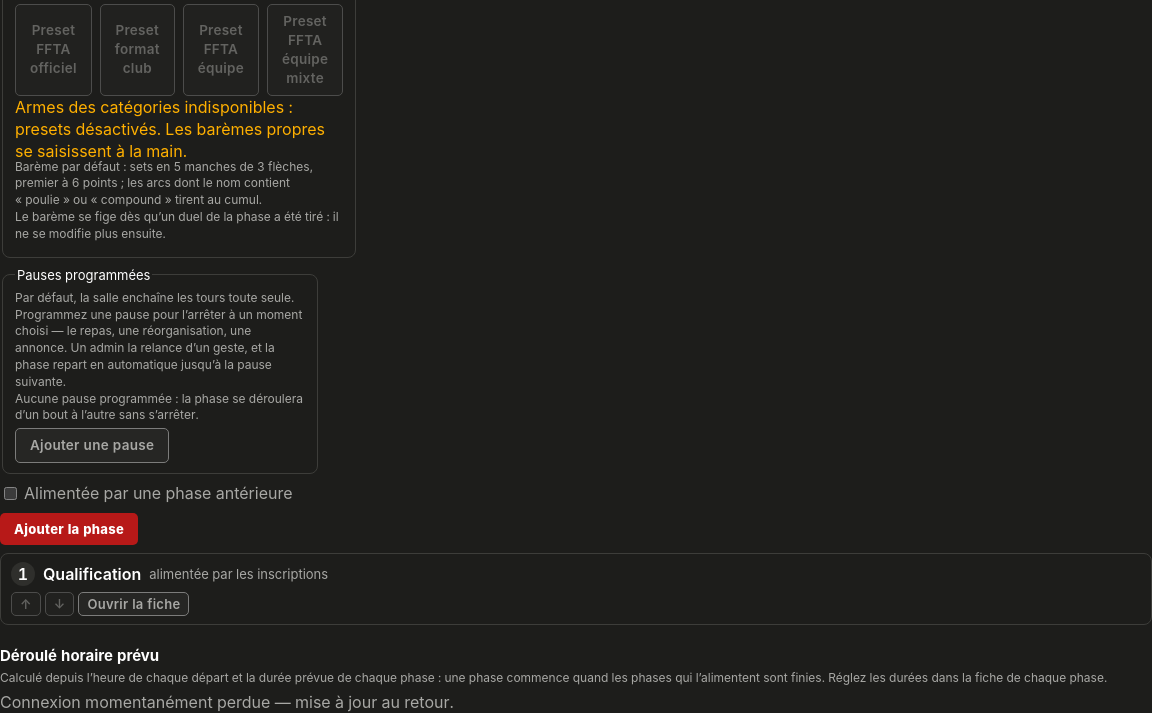
Test: la fiche d’une phase › s’ouvre aussi sur la qualification, qui n’en avait aucune
(page scrolled)
Click the button "Ouvrir la fiche": (134, 604) [78,592,189,616]
(page scrolled)
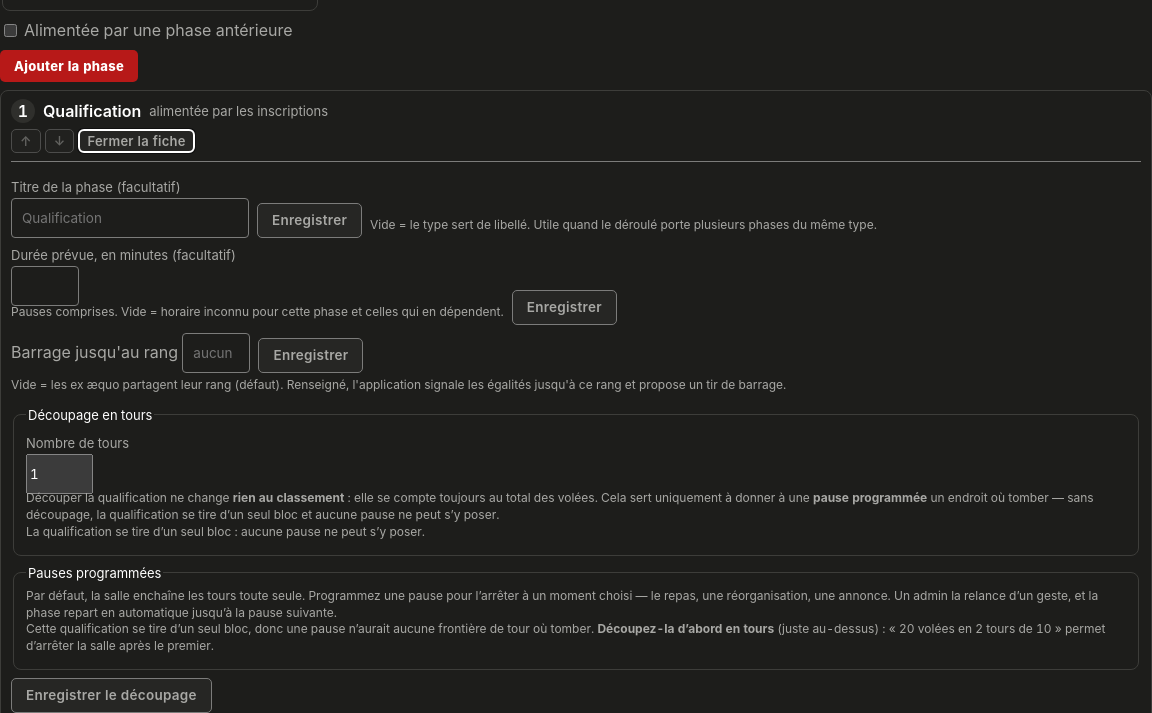
Expected: the field labelled "Titre de la phase (facultatif)" is shown, [11,198,249,238]
Expected: the text "Barrage jusqu'au rang" is shown, [11,333,250,373]
